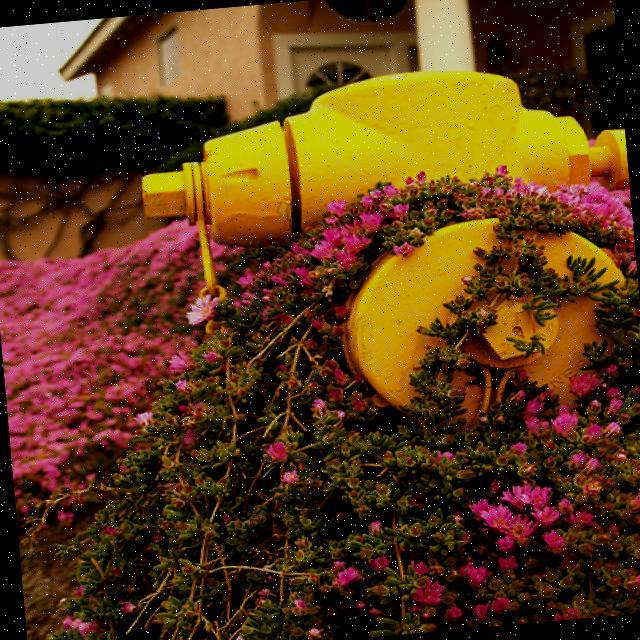fire_hydrant: (132, 53, 640, 449)
